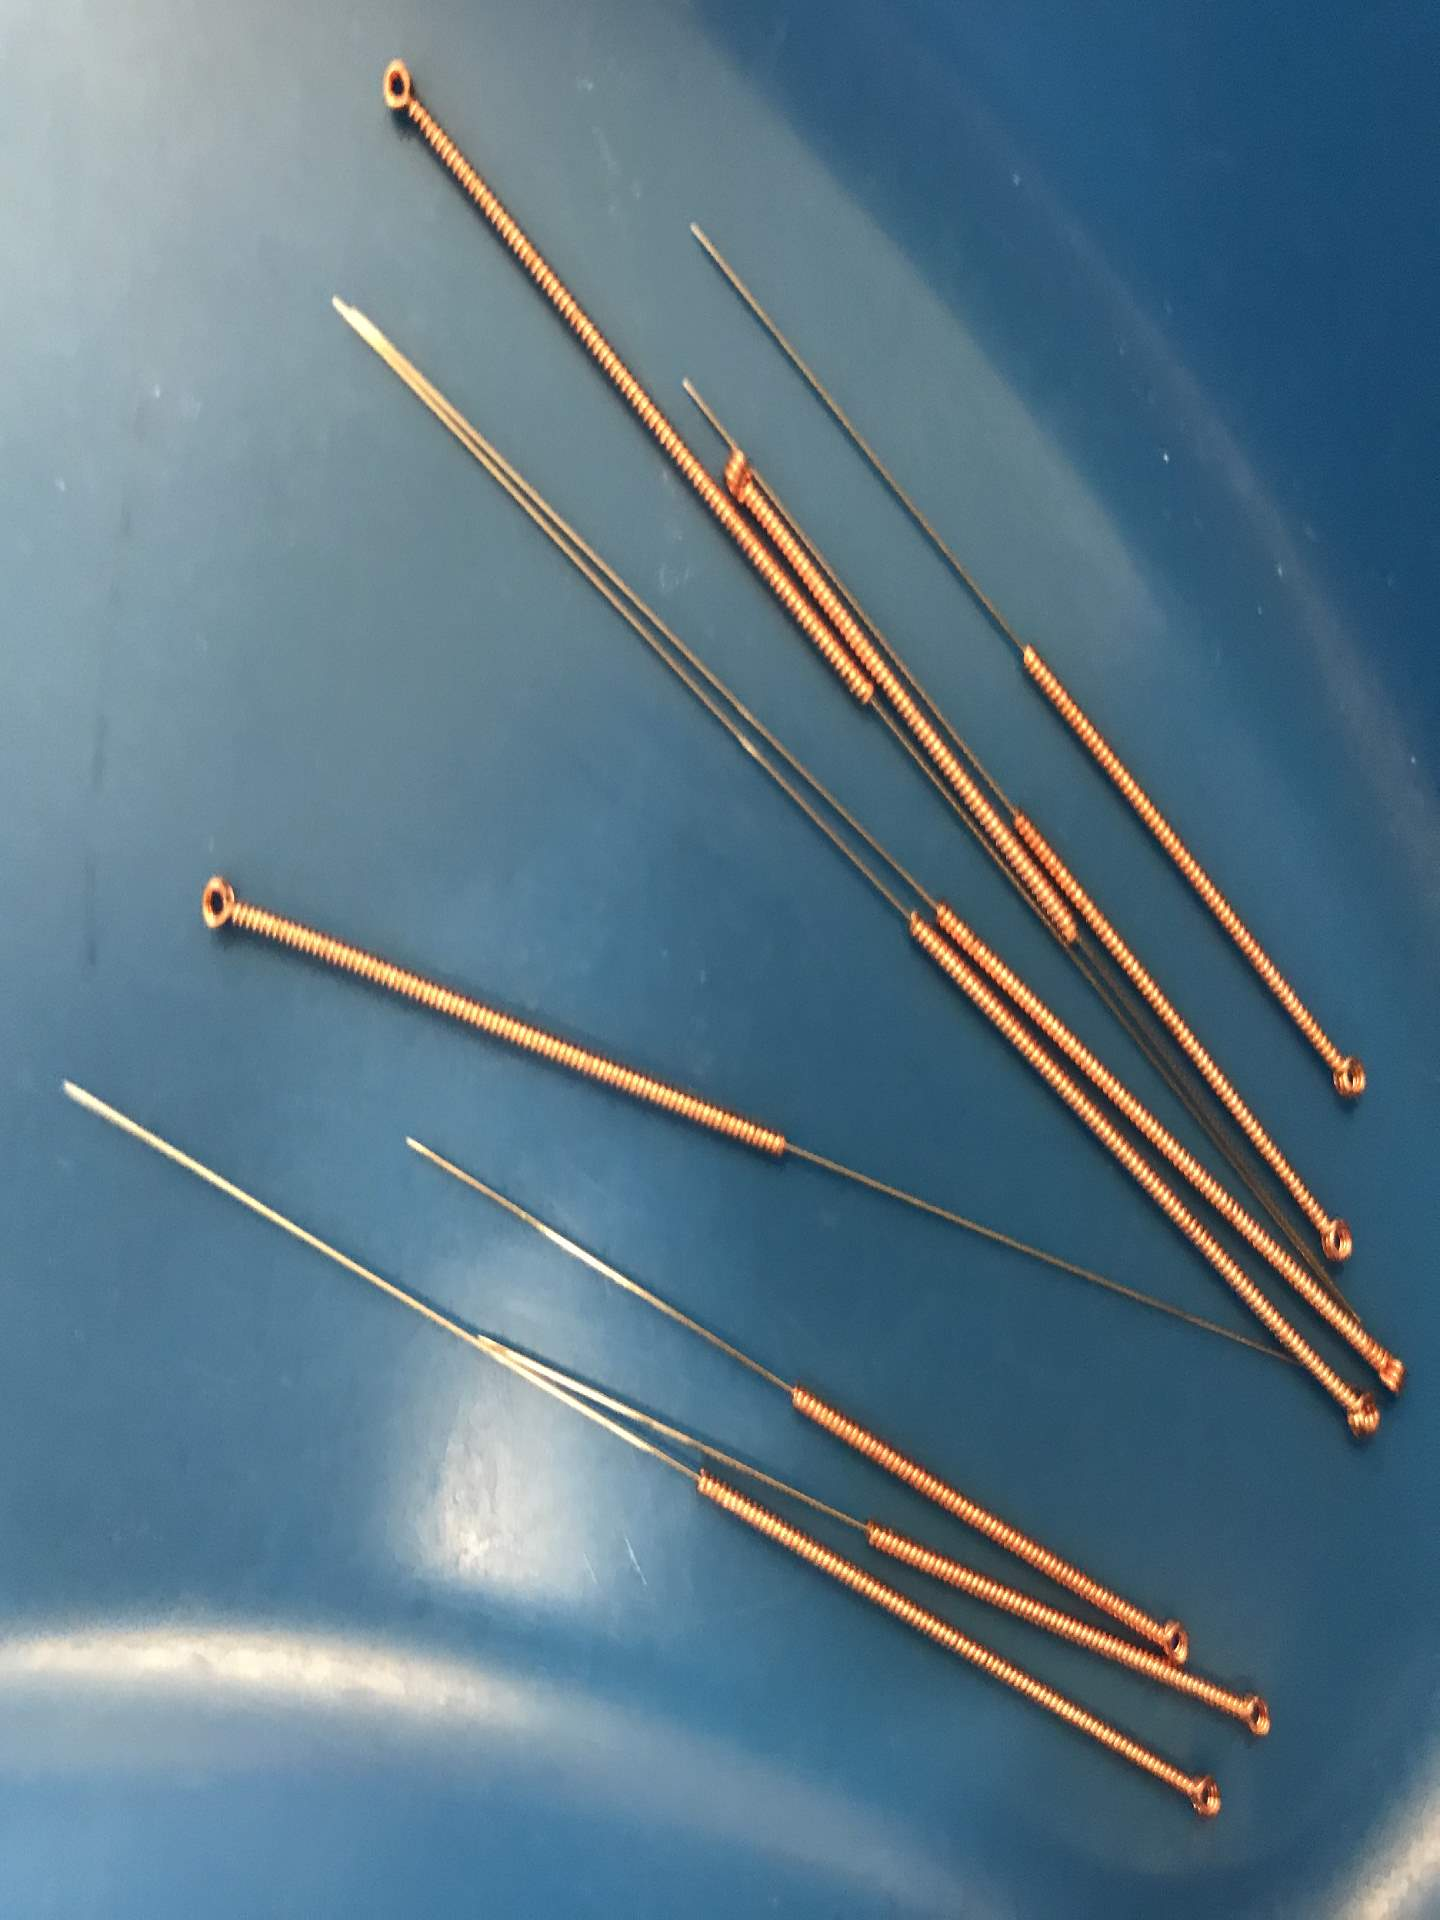needle: (178, 862, 259, 951), (363, 47, 436, 136), (1314, 1033, 1379, 1117), (1162, 1760, 1234, 1831), (1221, 1677, 1286, 1749), (1330, 1383, 1389, 1459), (1305, 1196, 1361, 1273), (715, 435, 764, 508), (1148, 1601, 1196, 1668), (1366, 1336, 1414, 1398)
